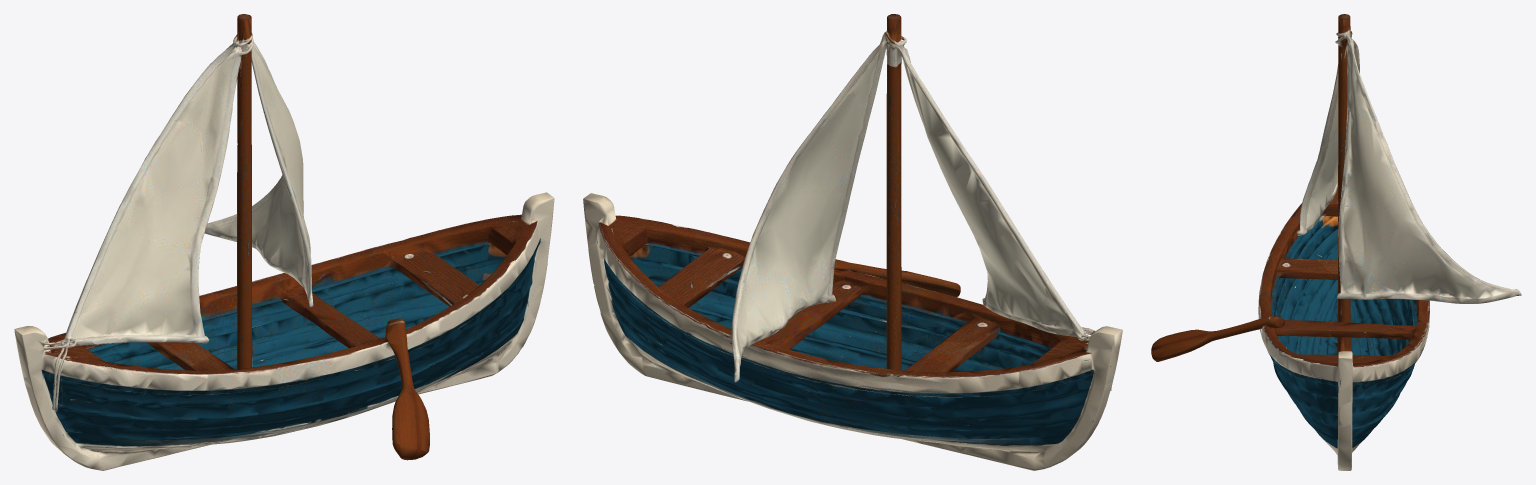
The model's file is boat.glb.
The picture shows the model from 3 angles, left to right: view 1: azimuth 30°, elevation 25°; view 2: azimuth 150°, elevation 25°; view 3: azimuth 270°, elevation 25°; orthographic projection. The views are drawn at different scales.
Size of the model in its own units: 1.9 by 1.42 by 1.35.
Materials: 1 (1 with a texture image).
